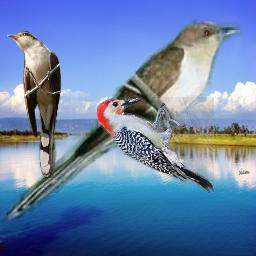Cuckoo: (0, 19, 247, 229), (7, 31, 62, 178)
Woodpecker: (97, 97, 214, 193)
